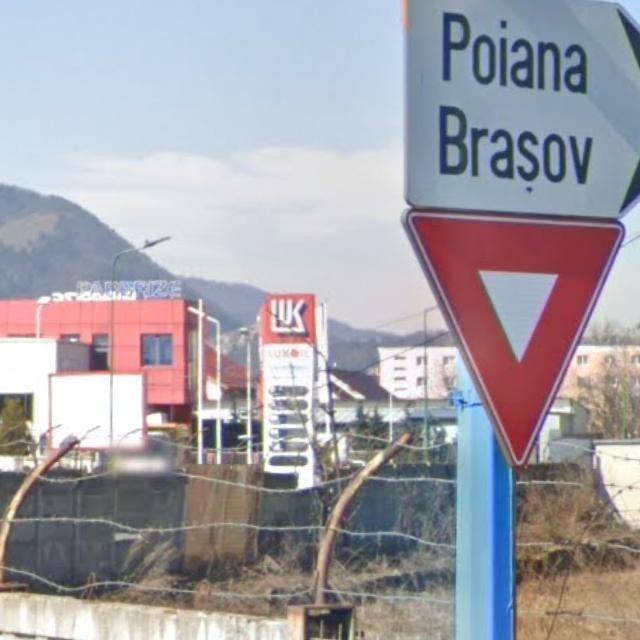prio_give_way: (400, 208, 618, 465)
